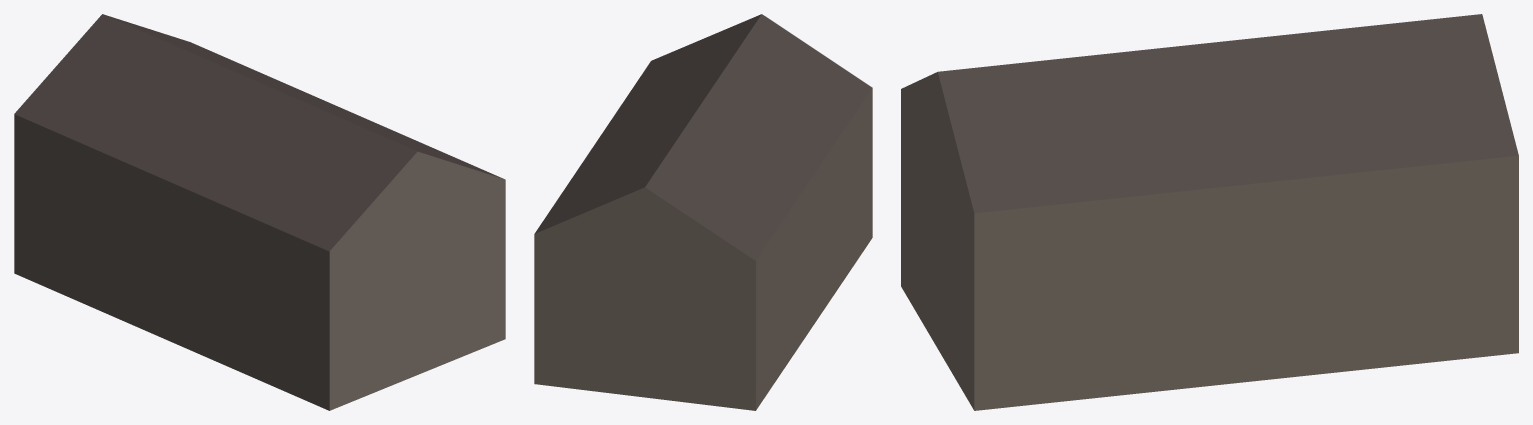
3 renders of one model, left to right at view 1: azimuth 30°, elevation 25°; view 2: azimuth 150°, elevation 25°; view 3: azimuth 270°, elevation 25°, orthographic. The views are drawn at different scales.
Parts seen in each view (by area): view 1: HP-w1376988668; view 2: HP-w1376988668; view 3: HP-w1376988668.
Boxes of the visible parts, <box> form: HP-w1376988668: <box>14,14,505,410</box>; HP-w1376988668: <box>534,14,872,410</box>; HP-w1376988668: <box>901,14,1518,410</box>.
Size of the model in its own units: 11.87 by 8.41 by 17.01.
